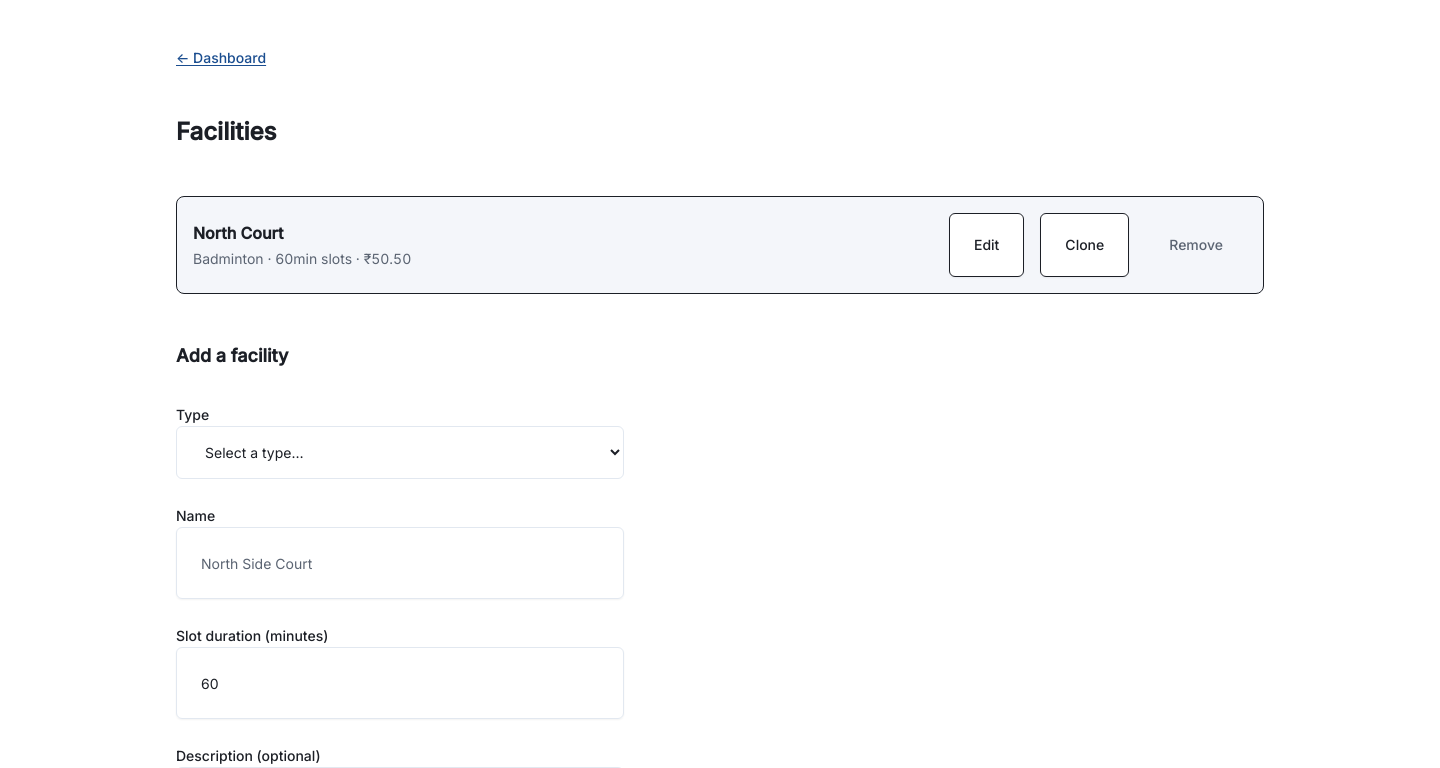
TenantFacilities › edit dialog pre-populates price in rupees from the facility's price_paise
The width and height of the screenshot is (1440, 768).
Step 1. Click the button "Edit" → click(987, 245), box [949,213,1024,277]
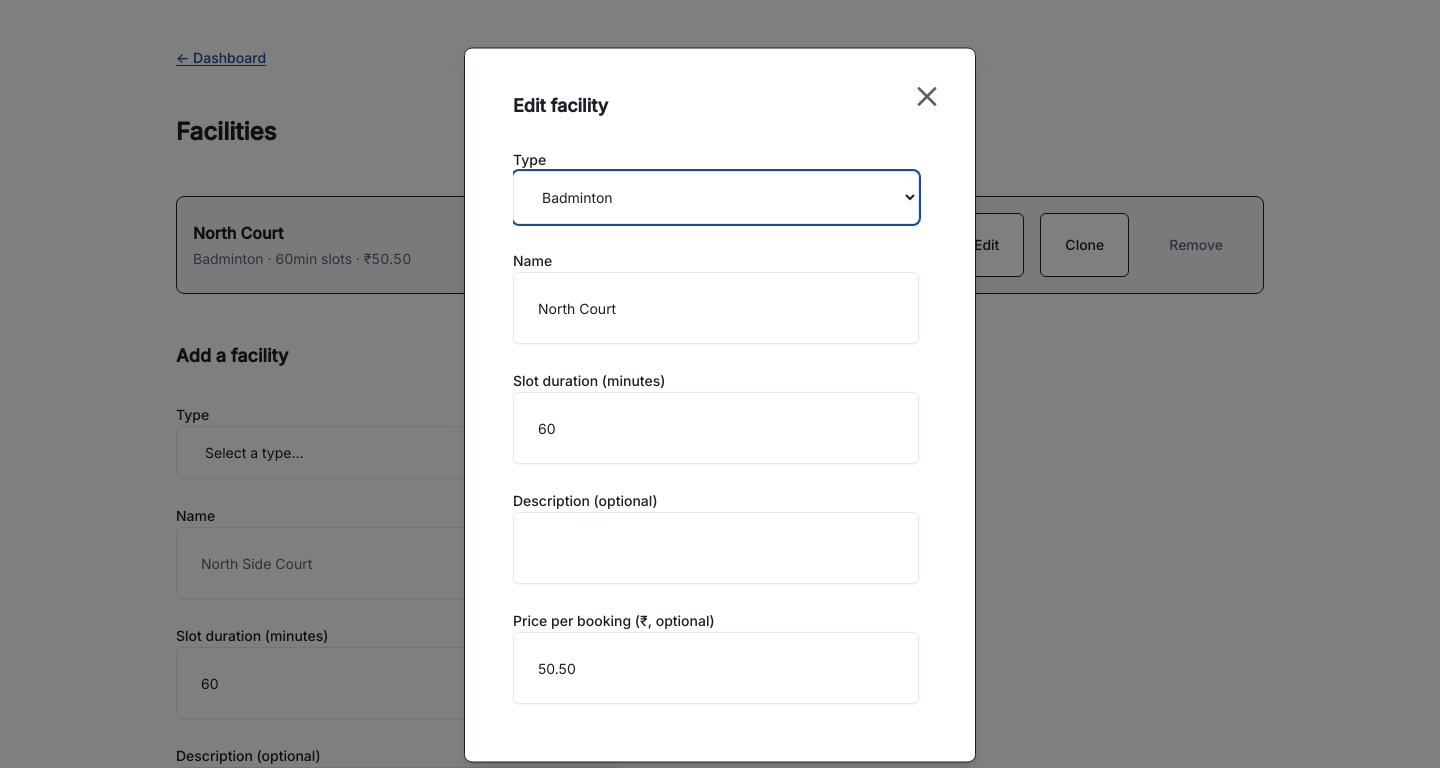
Expected: the number field labelled "Price per booking (₹, optional)" holds "50.5", [513,632,919,704]
